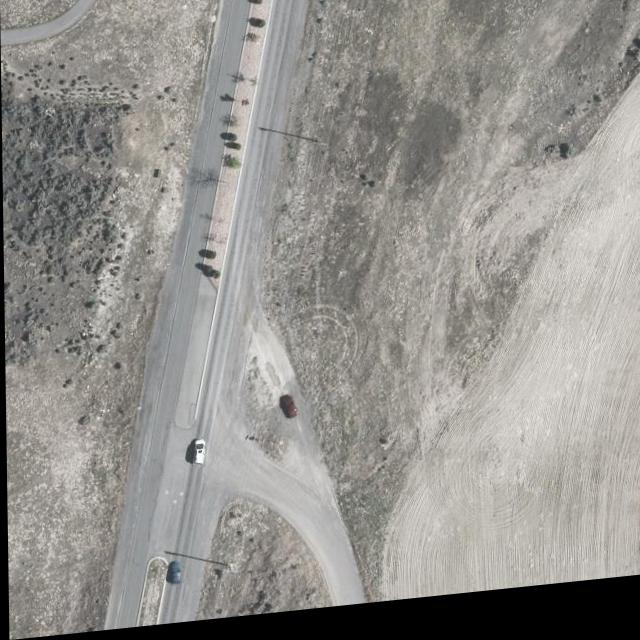vehicle: (279, 400, 299, 428), (191, 441, 208, 473), (166, 564, 182, 590)
